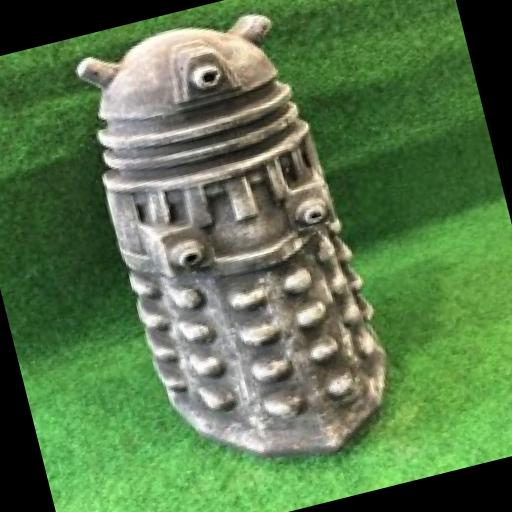dalek: (57, 0, 416, 491)
